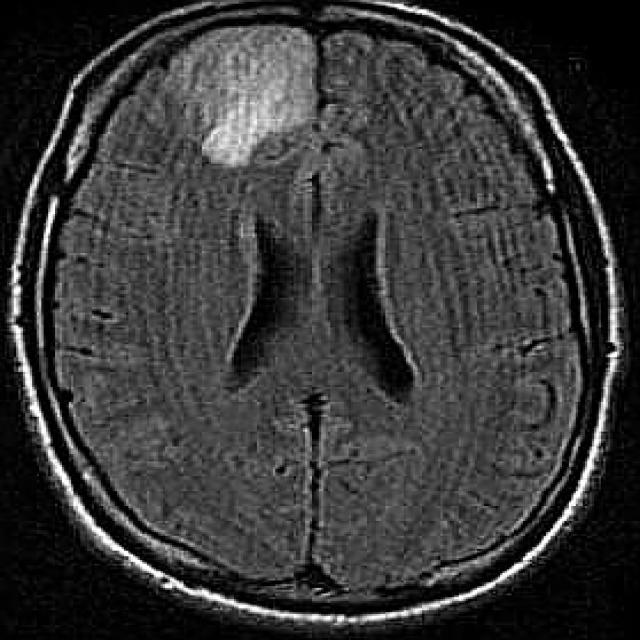Tumor-Cell: (157, 36, 344, 147)
